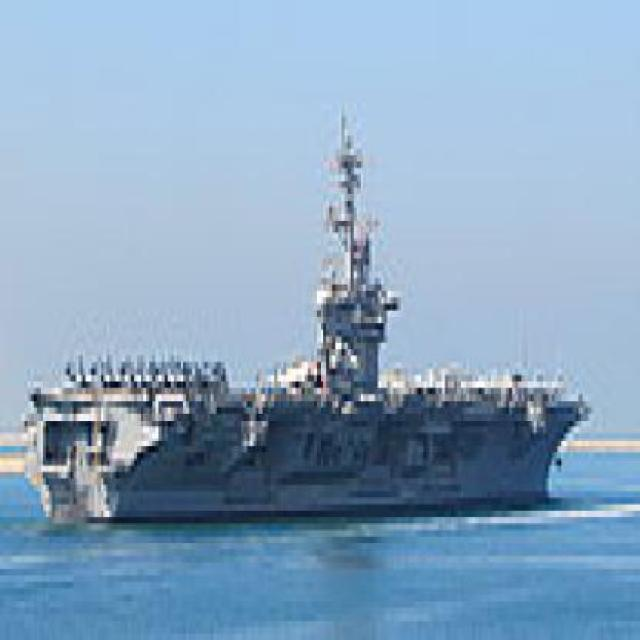warship2: (19, 91, 593, 557)
